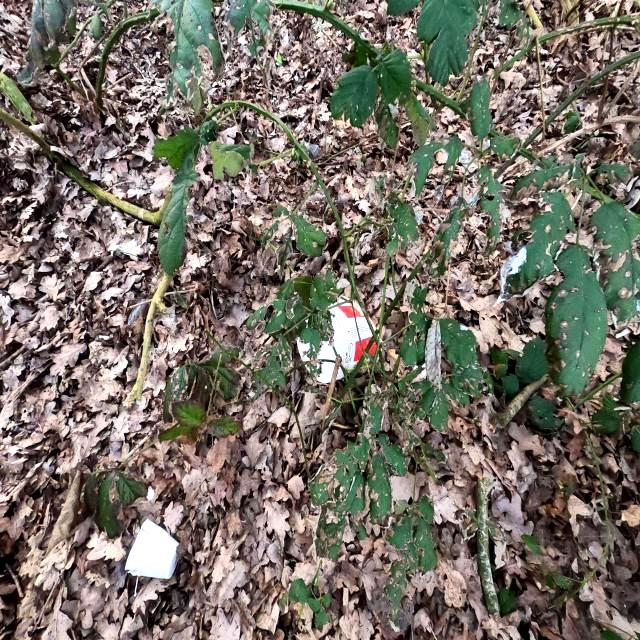Coffee Cup: (124, 517, 180, 579)
Paper: (295, 298, 383, 384)
